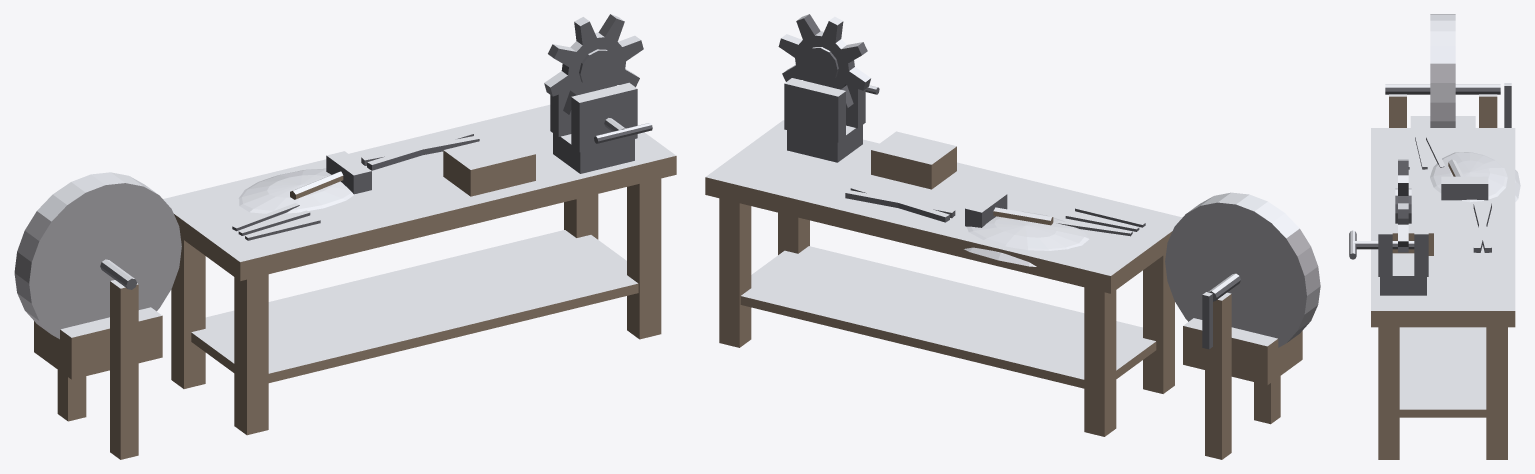
File: PR_Bancada.fbx
3 renders of one model, left to right at view 1: azimuth 30°, elevation 25°; view 2: azimuth 150°, elevation 25°; view 3: azimuth 270°, elevation 25°, orthographic. The views are drawn at different scales.
Visible parts, largest first — view 1: PR_Bancada; view 2: PR_Bancada; view 3: PR_Bancada.
Boxes of the visible parts, left/top/right/bottom form: PR_Bancada: left=14, top=14, right=676, bottom=459; PR_Bancada: left=705, top=14, right=1320, bottom=459; PR_Bancada: left=1349, top=14, right=1520, bottom=459.
Size of the model in its own units: 3.37 by 1.68 by 0.9503.
